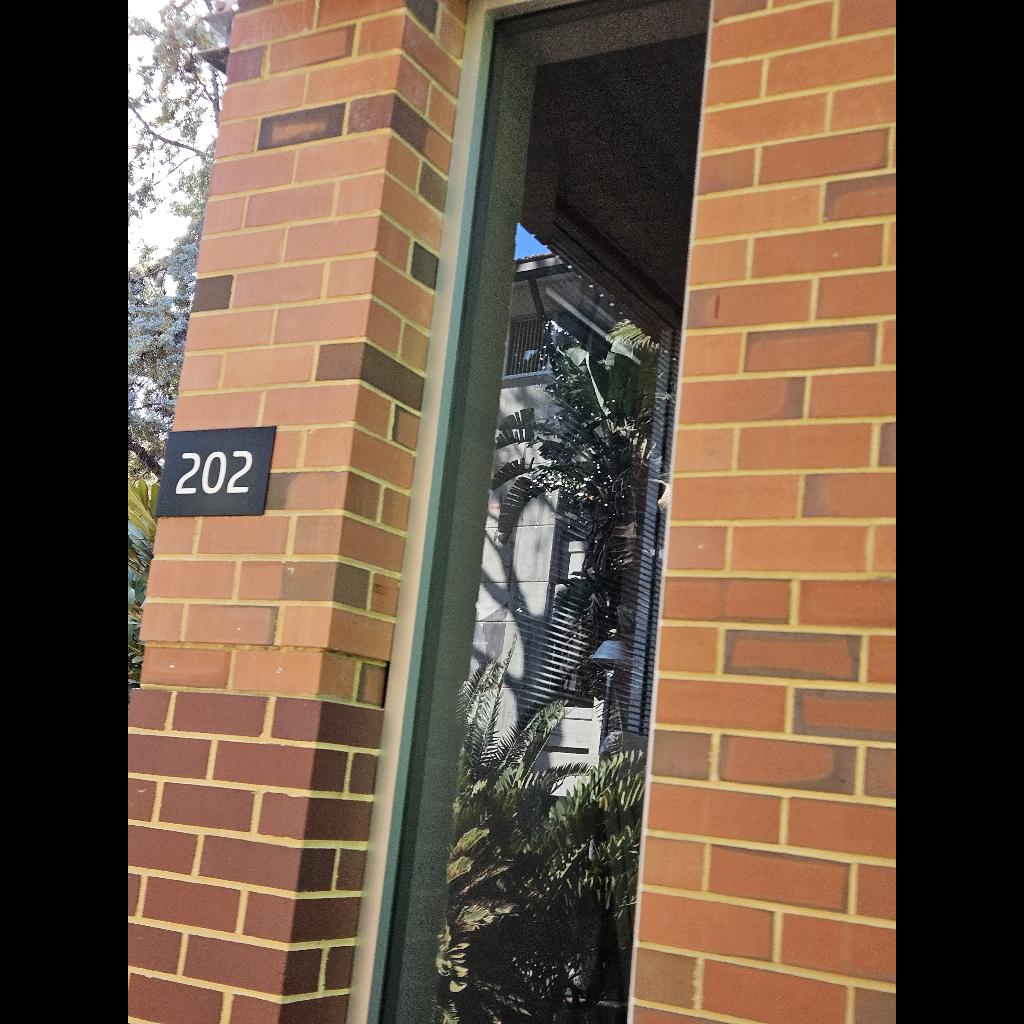BuildingCodes: (173, 450, 253, 496)
